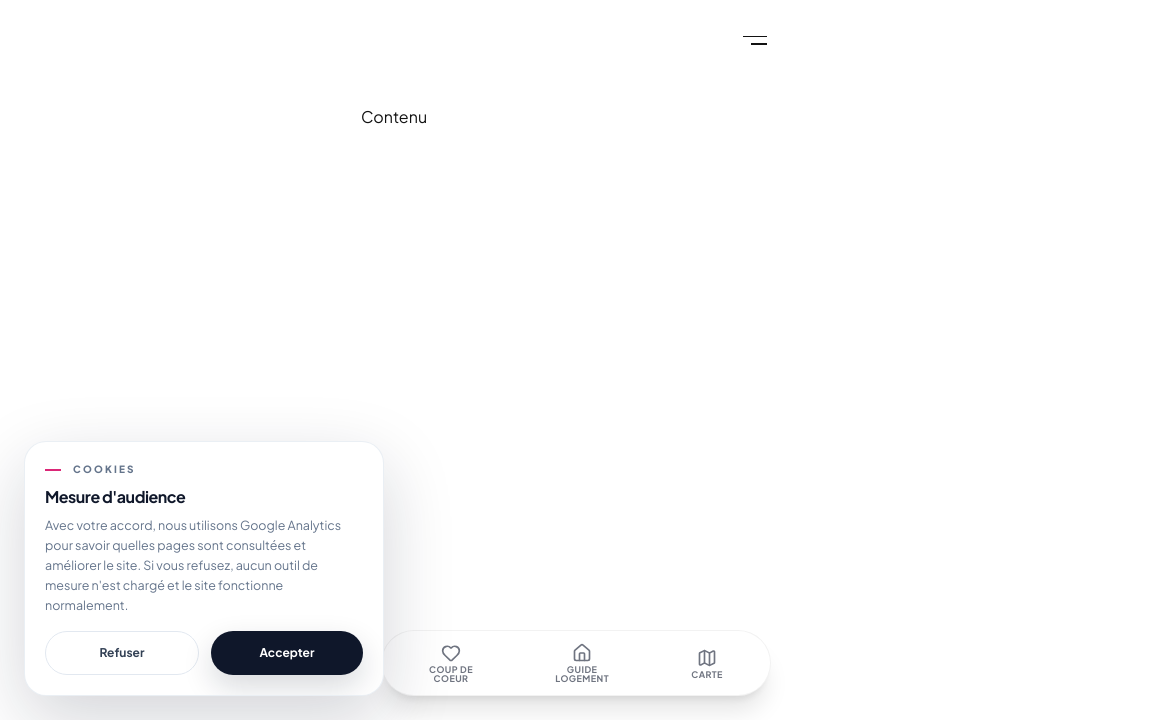
Test: PublicLayout mockup menu › opens the full-screen navigation overlay from the burger button
Expected: the text "Navigation" is not shown
Expected: the link "Coup de coeur" is shown, [429,643,473,684]
Click the button named "Ouvrir le menu".
click(747, 40)  # box [727,20,767,60]
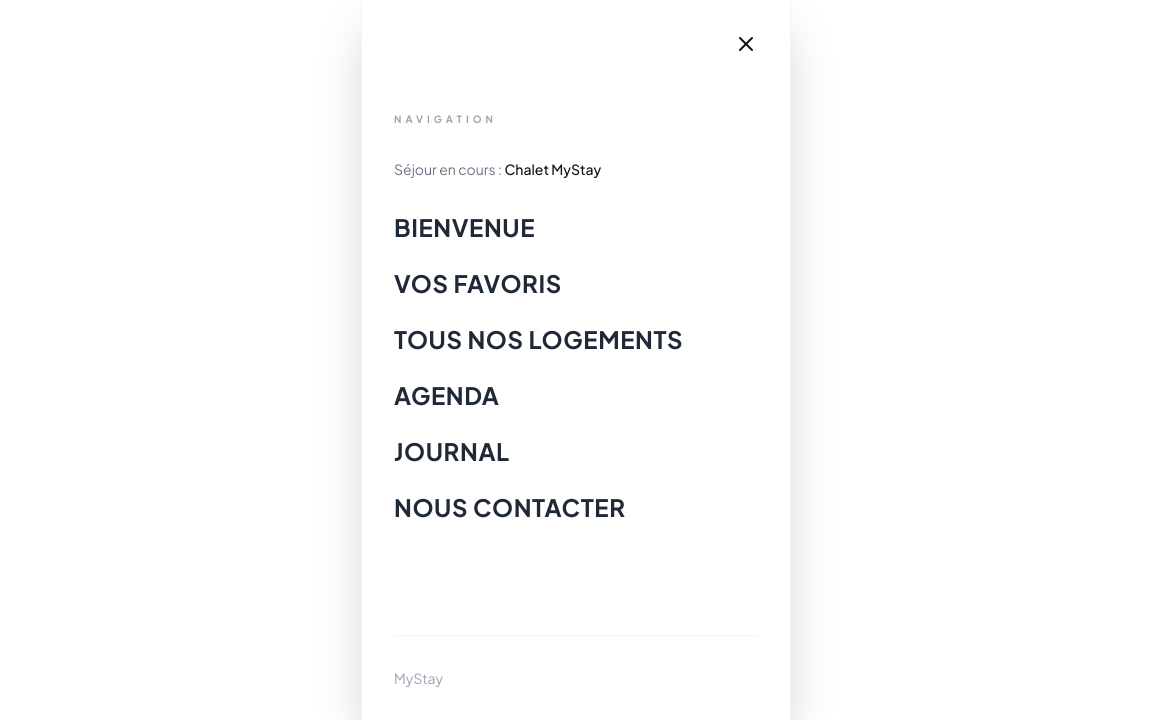
Expected: the text "Navigation" is shown, [394,113,497,125]
